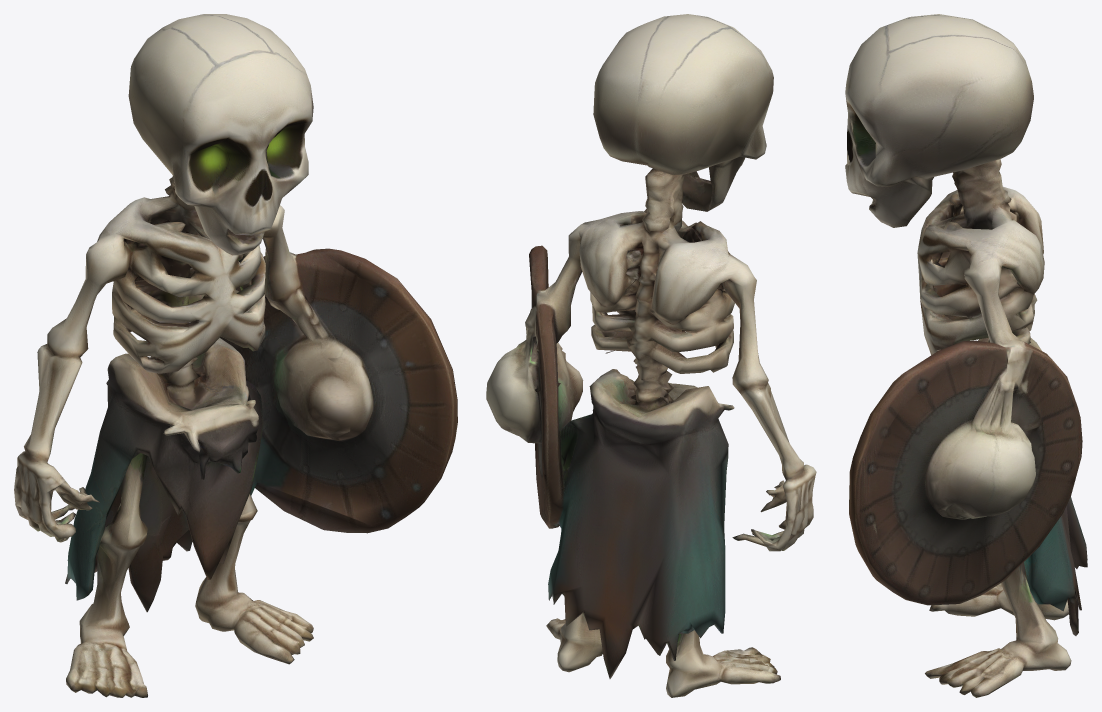
Rendered from skeleton.glb.
3 renders of one model, left to right at view 1: azimuth 30°, elevation 25°; view 2: azimuth 150°, elevation 25°; view 3: azimuth 270°, elevation 25°, orthographic. The views are drawn at different scales.
Size of the model in its own units: 1.16 by 2 by 0.7074.
Materials: 1 (1 with a texture image).
